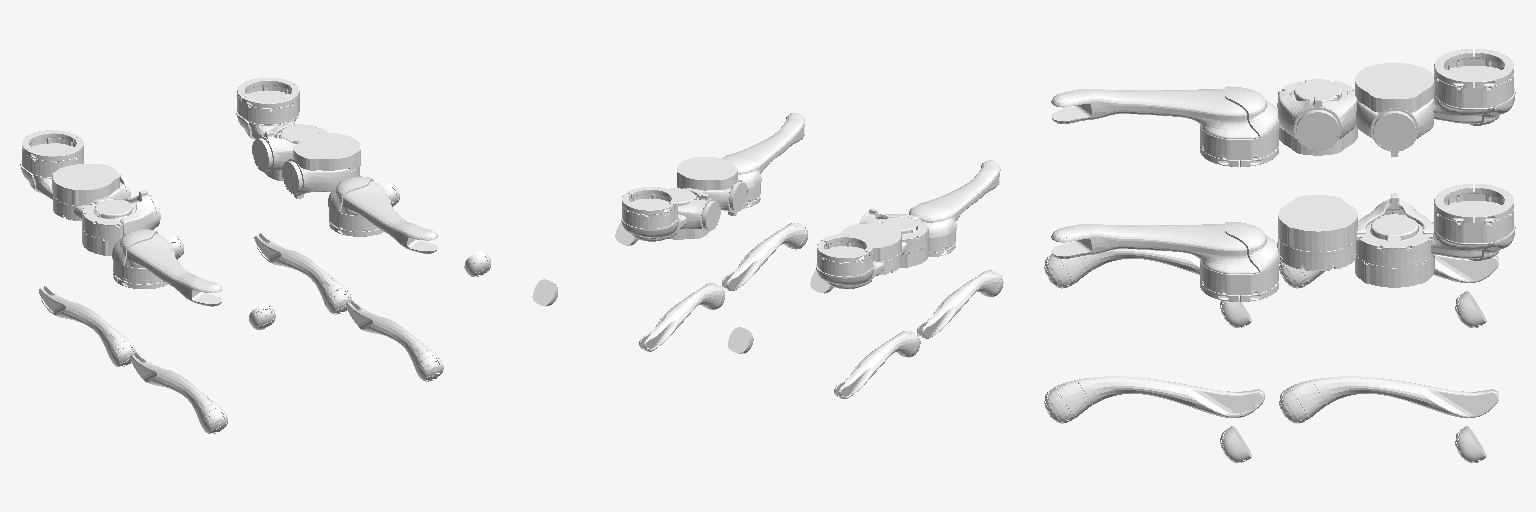
--- What the picture shows (computed from the rendered views, not written in the file) ---
The picture shows the robot from 3 angles, left to right: view 1: azimuth 30°, elevation 25°; view 2: azimuth 150°, elevation 25°; view 3: azimuth 270°, elevation 25°; orthographic projection.
Model go2_description with 29 links and 28 joints (12 revolute, 16 fixed), rooted at base, posed all joints at 0 but 4 set to mid-range because 0 is outside their limits (FL_calf_joint = -1.78, FR_calf_joint = -1.78, RL_calf_joint = -1.78, RR_calf_joint = -1.78).
Links seen in each view (by area): view 1: FR_thigh, RR_thigh, FR_hip, RR_hip, FL_thigh, RL_thigh, RL_hip, RR_calf, FR_calf, FL_calf, RL_calf, FL_hip (+2 smaller); view 2: RR_thigh, RL_thigh, FL_thigh, FR_hip, FR_thigh, FR_calf, FL_calf, RR_calf, RL_calf, FL_hip, RR_hip, RL_hip (+2 smaller); view 3: FR_thigh, RR_thigh, RL_hip, FL_hip, FL_thigh, RL_thigh, FR_hip, RR_hip, FR_calf, FL_calf, RR_calf, RL_calf (+4 smaller).
Boxes of the visible links, <box> form: FR_thigh: <box>328,176,437,253</box>; RR_thigh: <box>112,229,221,306</box>; FR_hip: <box>282,133,360,198</box>; RR_hip: <box>82,190,160,255</box>; FL_thigh: <box>236,78,299,142</box>; RL_thigh: <box>20,130,128,220</box>; RL_hip: <box>52,164,130,220</box>; RR_calf: <box>130,353,227,433</box>; FR_calf: <box>346,300,443,381</box>; FL_calf: <box>254,233,351,314</box>; RL_calf: <box>39,286,136,366</box>; FL_hip: <box>252,124,327,180</box>; RR_thigh: <box>909,160,1000,256</box>; RL_thigh: <box>816,228,916,288</box>; FL_thigh: <box>621,187,695,241</box>; FR_hip: <box>677,157,747,215</box>; FR_thigh: <box>721,113,804,208</box>; FR_calf: <box>722,223,807,290</box>; FL_calf: <box>639,283,724,351</box>; RR_calf: <box>917,270,1003,338</box>; RL_calf: <box>834,331,920,398</box>; FL_hip: <box>668,188,720,239</box>; RR_hip: <box>859,208,928,267</box>; RL_hip: <box>837,224,901,275</box>; FR_thigh: <box>1051,222,1280,301</box>; RR_thigh: <box>1051,86,1279,166</box>; RL_hip: <box>1355,63,1434,156</box>; FL_hip: <box>1355,193,1434,287</box>; FL_thigh: <box>1431,184,1515,260</box>; RL_thigh: <box>1289,49,1515,125</box>; FR_hip: <box>1277,195,1357,270</box>; RR_hip: <box>1277,79,1357,155</box>; FR_calf: <box>1044,376,1264,423</box>; FL_calf: <box>1279,376,1498,423</box>; RR_calf: <box>1044,249,1199,288</box>; RL_calf: <box>1279,255,1498,288</box>.
Size in the robot's own frame: 0.6651 by 0.5701 by 0.2957 metres.
Meshes: 7 distinct files referenced, 16 mesh visuals loaded (6 OBJ); not drawn: 1 (reference not matched to a file when rendering).

robot.urdf — go2_description:
<?xml version="1.0" encoding="utf-8"?>
<!-- This URDF was automatically created by SolidWorks to URDF Exporter! Originally created by
Stephen Brawner ([email redacted]) 
     Commit Version: 1.6.0-4-g7f85cfe  Build Version: 1.6.7995.38578
     For more information, please see http://wiki.ros.org/sw_urdf_exporter -->
<robot
  name="go2_description">
  <link
    name="base">
    <inertial>
      <origin
        xyz="0.021112 0 -0.005366"
        rpy="0 0 0" />
      <mass
        value="6.921" />
      <inertia
        ixx="0.02448"
        ixy="0.00012166"
        ixz="0.0014849"
        iyy="0.098077"
        iyz="-3.12E-05"
        izz="0.107" />
    </inertial>
    <visual>
      <origin
        xyz="0 0 0"
        rpy="0 0 0" />
      <geometry>
        <mesh
          filename="meshes/trunk.obj" />
      </geometry>
      <material
        name="">
        <color
          rgba="1 1 1 1" />
      </material>
    </visual>
    <collision>
      <origin rpy="0 0 0" xyz="0 0 0" />
      <geometry>
        <box size="0.3762 0.0935 0.114" />
      </geometry>
    </collision>
  </link>
  <link
    name="Head_upper">
    <inertial>
      <origin
        xyz="0 0 0"
        rpy="0 0 0" />
      <mass
        value="0.001" />
      <inertia
        ixx="9.6e-06"
        ixy="0"
        ixz="0"
        iyy="9.6e-06"
        iyz="0"
        izz="9.6e-06" />
    </inertial>
    <collision>
      <origin
        xyz="0 0 0"
        rpy="0 0 0" />
      <geometry>
        <cylinder radius="0.05" length="0.09" />
      </geometry>
    </collision>
  </link>
  <joint
    name="Head_upper_joint"
    type="fixed" dont_collapse="true">
    <origin
      xyz="0.285 0 0.01"
      rpy="0 0 0" />
    <parent
      link="base" />
    <child
      link="Head_upper" />
    <axis
      xyz="0 0 0" />
  </joint>
  <link
    name="Head_lower">
    <inertial>
      <origin
        xyz="0 0 0"
        rpy="0 0 0" />
      <mass
        value="0.001" />
      <inertia
        ixx="9.6e-06"
        ixy="0"
        ixz="0"
        iyy="9.6e-06"
        iyz="0"
        izz="9.6e-06" />
    </inertial>
    <collision>
      <origin
        xyz="0 0 0"
        rpy="0 0 0" />
      <geometry>
        <sphere radius="0.047" />
      </geometry>
    </collision>
  </link>
  <joint
    name="Head_lower_joint"
    type="fixed" dont_collapse="true">
    <origin
      xyz="0.008 0 -0.07"
      rpy="0 0 0" />
    <parent
      link="Head_upper" />
    <child
      link="Head_lower" />
    <axis
      xyz="0 0 0" />
  </joint>
  <link
    name="FL_hip">
    <inertial>
      <origin
        xyz="-0.0054 0.00194 -0.000105"
        rpy="0 0 0" />
      <mass
        value="0.678" />
      <inertia
        ixx="0.00048"
        ixy="-3.01E-06"
        ixz="1.11E-06"
        iyy="0.000884"
        iyz="-1.42E-06"
        izz="0.000596" />
    </inertial>
    <visual>
      <origin
        xyz="0 0 0"
        rpy="0 0 0" />
      <geometry>
        <mesh
          filename="meshes/hip.obj" />
      </geometry>
      <material
        name="">
        <color
          rgba="1 1 1 1" />
      </material>
    </visual>
    <collision>
      <origin rpy="1.5707963267948966 0 0" xyz="0 0.08 0" />
      <geometry>
        <cylinder length="0.04" radius="0.046" />
      </geometry>
    </collision>
  </link>
  <joint
    name="FL_hip_joint"
    type="revolute">
    <origin
      xyz="0.1934 0.0465 0"
      rpy="0 0 0" />
    <parent
      link="base" />
    <child
      link="FL_hip" />
    <axis
      xyz="1 0 0" />
    <limit
      lower="-1.0472"
      upper="1.0472"
      effort="23.7"
      velocity="30.1" />
  </joint>
  <link
    name="FL_thigh">
    <inertial>
      <origin
        xyz="-0.00374 -0.0223 -0.0327"
        rpy="0 0 0" />
      <mass
        value="1.152" />
      <inertia
        ixx="0.00584"
        ixy="8.72E-05"
        ixz="-0.000289"
        iyy="0.0058"
        iyz="0.000808"
        izz="0.00103" />
    </inertial>
    <visual>
      <origin
        xyz="0 0 0"
        rpy="0 0 0" />
      <geometry>
        <mesh
          filename="meshes/thigh.obj" />
      </geometry>
      <material
        name="">
        <color
          rgba="1 1 1 1" />
      </material>
    </visual>
    <collision>
      <origin rpy="0 1.5707963267948966 0" xyz="0 0 -0.1065" />
      <geometry>
        <box size="0.213 0.0245 0.034" />
      </geometry>
    </collision>
  </link>
  <joint
    name="FL_thigh_joint"
    type="revolute">
    <origin
      xyz="0 0.0955 0"
      rpy="0 0 0" />
    <parent
      link="FL_hip" />
    <child
      link="FL_thigh" />
    <axis
      xyz="0 1 0" />
    <limit
      lower="-1.5708"
      upper="3.4907"
      effort="23.7"
      velocity="30.1" />
  </joint>
  <link
    name="FL_calf">
    <inertial>
      <origin
        xyz="0.00548 -0.000975 -0.115"
        rpy="0 0 0" />
      <mass
        value="0.154" />
      <inertia
        ixx="0.00108"
        ixy="3.4E-07"
        ixz="1.72E-05"
        iyy="0.0011"
        iyz="8.28E-06"
        izz="3.29E-05" />
    </inertial>
    <visual>
      <origin
        xyz="0 0 0"
        rpy="0 0 0" />
      <geometry>
        <mesh
          filename="meshes/calf.obj" />
      </geometry>
      <material
        name="">
        <color
          rgba="1 1 1 1" />
      </material>
    </visual>
    <collision>
      <origin rpy="0 -0.21 0" xyz="0.008 0 -0.06" />
      <geometry>
        <cylinder length="0.12" radius="0.012" />
      </geometry>
    </collision>
  </link>
  <joint
    name="FL_calf_joint"
    type="revolute">
    <origin
      xyz="0 0 -0.213"
      rpy="0 0 0" />
    <parent
      link="FL_thigh" />
    <child
      link="FL_calf" />
    <axis
      xyz="0 1 0" />
    <limit
      lower="-2.7227"
      upper="-0.83776"
      effort="45.43"
      velocity="15.70" />
  </joint>
  <link
    name="FL_calflower">
    <collision>
      <origin rpy="0 0 0" xyz="0 0 0" />
      <geometry>
        <cylinder length="0.065" radius="0.011" />
      </geometry>
    </collision>
  </link>
  <joint
    name="FL_calflower_joint"
    type="fixed">
    <origin
      xyz="0.020 0 -0.148"
      rpy="0 0.05 0" />
    <parent
      link="FL_calf" />
    <child
      link="FL_calflower" />
    <axis
      xyz="0 0 0" />
  </joint>
  <link
    name="FL_calflower1">
    <collision>
      <origin rpy="0 0 0" xyz="0 0 0" />
      <geometry>
        <cylinder length="0.03" radius="0.0155" />
      </geometry>
    </collision>
  </link>
  <joint
    name="FL_calflower1_joint"
    type="fixed">
    <origin
      xyz="-0.01 0 -0.04"
      rpy="0 0.48 0" />
    <parent
      link="FL_calflower" />
    <child
      link="FL_calflower1" />
    <axis
      xyz="0 0 0" />
  </joint>
  <link
    name="FL_foot">
    <inertial>
      <origin
        xyz="0 0 0"
        rpy="0 0 0" />
      <mass
        value="0.04" />
      <inertia
        ixx="9.6e-06"
        ixy="0"
        ixz="0"
        iyy="9.6e-06"
        iyz="0"
        izz="9.6e-06" />
    </inertial>
    <visual>
      <origin
        xyz="0 0 0"
        rpy="0 0 0" />
      <geometry>
        <mesh
          filename="meshes/foot.obj" />
      </geometry>
      <material
        name="">
        <color
          rgba="1 1 1 1" />
      </material>
    </visual>
    <collision>
      <origin rpy="0 0 0" xyz="-0.002 0 0" />
      <geometry>
        <sphere radius="0.022" />
      </geometry>
    </collision>
  </link>
  <joint
    name="FL_foot_joint"
    type="fixed" dont_collapse="true">
    <origin
      xyz="0 0 -0.213"
      rpy="0 0 0" />
    <parent
      link="FL_calf" />
    <child
      link="FL_foot" />
    <axis
      xyz="0 0 0" />
  </joint>
  <link
    name="FR_hip">
    <inertial>
      <origin
        xyz="-0.0054 -0.00194 -0.000105"
        rpy="0 0 0" />
      <mass
        value="0.678" />
      <inertia
        ixx="0.00048"
        ixy="3.01E-06"
        ixz="1.11E-06"
        iyy="0.000884"
        iyz="1.42E-06"
        izz="0.000596" />
    </inertial>
    <visual>
      <origin
        xyz="0 0 0"
        rpy="3.1415 0 0" />
      <geometry>
        <mesh
          filename="meshes/hip.obj" />
      </geometry>
      <material
        name="">
        <color
          rgba="1 1 1 1" />
      </material>
    </visual>
    <collision>
      <origin rpy="1.5707963267948966 0 0" xyz="0 -0.08 0" />
      <geometry>
        <cylinder length="0.04" radius="0.046" />
      </geometry>
    </collision>
  </link>
  <joint
    name="FR_hip_joint"
    type="revolute">
    <origin
      xyz="0.1934 -0.0465 0"
      rpy="0 0 0" />
    <parent
      link="base" />
    <child
      link="FR_hip" />
    <axis
      xyz="1 0 0" />
    <limit
      lower="-1.0472"
      upper="1.0472"
      effort="23.7"
      velocity="30.1" />
  </joint>
  <link
    name="FR_thigh">
    <inertial>
      <origin
        xyz="-0.00374 0.0223 -0.0327"
        rpy="0 0 0" />
      <mass
        value="1.152" />
      <inertia
        ixx="0.00584"
        ixy="-8.72E-05"
        ixz="-0.000289"
        iyy="0.0058"
        iyz="-0.000808"
        izz="0.00103" />
    </inertial>
    <visual>
      <origin
        xyz="0 0 0"
        rpy="0 0 0" />
      <geometry>
        <mesh
          filename="meshes/thigh_mirror.obj" />
      </geometry>
      <material
        name="">
        <color
          rgba="1 1 1 1" />
      </material>
    </visual>
    <collision>
      <origin rpy="0 1.5707963267948966 0" xyz="0 0 -0.1065" />
      <geometry>
        <box size="0.213 0.0245 0.034" />
      </geometry>
    </collision>
  </link>
  <joint
    name="FR_thigh_joint"
    type="revolute">
    <origin
      xyz="0 -0.0955 0"
      rpy="0 0 0" />
    <parent
      link="FR_hip" />
    <child
      link="FR_thigh" />
    <axis
      xyz="0 1 0" />
    <limit
      lower="-1.5708"
      upper="3.4907"
      effort="23.7"
      velocity="30.1" />
  </joint>
  <link
    name="FR_calf">
    <inertial>
      <origin
        xyz="0.00548 0.000975 -0.115"
        rpy="0 0 0" />
      <mass
        value="0.154" />
      <inertia
        ixx="0.00108"
        ixy="-3.4E-07"
        ixz="1.72E-05"
        iyy="0.0011"
        iyz="-8.28E-06"
        izz="3.29E-05" />
    </inertial>
    <visual>
      <origin
        xyz="0 0 0"
        rpy="0 0 0" />
      <geometry>
        <mesh
          filename="meshes/calf_mirror.obj" />
      </geometry>
      <material
        name="">
        <color
          rgba="1 1 1 1" />
      </material>
    </visual>
    <collision>
      <origin rpy="0 -0.2 0" xyz="0.01 0 -0.06" />
      <geometry>
        <cylinder length="0.12" radius="0.013" />
      </geometry>
    </collision>
  </link>
  <joint
    name="FR_calf_joint"
    type="revolute">
    <origin
      xyz="0 0 -0.213"
      rpy="0 0 0" />
    <parent
      link="FR_thigh" />
    <child
      link="FR_calf" />
    <axis
      xyz="0 1 0" />
    <limit
      lower="-2.7227"
      upper="-0.83776"
      effort="45.43"
      velocity="15.70" />
  </joint>
  <link
    name="FR_calflower">
    <collision>
      <origin rpy="0 0 0" xyz="0 0 0" />
      <geometry>
        <cylinder length="0.065" radius="0.011" />
      </geometry>
    </collision>
  </link>
  <joint
    name="FR_calflower_joint"
    type="fixed">
    <origin
      xyz="0.020 0 -0.148"
      rpy="0 0.05 0" />
    <parent
      link="FR_calf" />
    <child
      link="FR_calflower" />
    <axis
      xyz="0 0 0" />
  </joint>
  <link
    name="FR_calflower1">
    <collision>
      <origin rpy="0 0 0" xyz="0 0 0" />
      <geometry>
        <cylinder length="0.03" radius="0.0155" />
      </geometry>
    </collision>
  </link>
  <joint
    name="FR_calflower1_joint"
    type="fixed">
    <origin
      xyz="-0.01 0 -0.04"
      rpy="0 0.48 0" />
    <parent
      link="FR_calflower" />
    <child
      link="FR_calflower1" />
    <axis
      xyz="0 0 0" />
  </joint>
  <link
    name="FR_foot">
    <inertial>
      <origin
        xyz="0 0 0"
        rpy="0 0 0" />
      <mass
        value="0.04" />
      <inertia
        ixx="9.6e-06"
        ixy="0"
        ixz="0"
        iyy="9.6e-06"
        iyz="0"
        izz="9.6e-06" />
    </inertial>
    <visual>
      <origin
        xyz="0 0 0"
        rpy="0 0 0" />
      <geometry>
        <mesh
          filename="meshes/foot.obj" />
      </geometry>
      <material
        name="">
        <color
          rgba="1 1 1 1" />
      </material>
    </visual>
    <collision>
      <origin rpy="0 0 0" xyz="-0.002 0 0" />
      <geometry>
        <sphere radius="0.022" />
      </geometry>
    </collision>
  </link>
  <joint
    name="FR_foot_joint"
    type="fixed" dont_collapse="true">
    <origin
      xyz="0 0 -0.213"
      rpy="0 0 0" />
    <parent
      link="FR_calf" />
    <child
      link="FR_foot" />
    <axis
      xyz="0 0 0" />
  </joint>
  <link
    name="RL_hip">
    <inertial>
      <origin
        xyz="0.0054 0.00194 -0.000105"
        rpy="0 0 0" />
      <mass
        value="0.678" />
      <inertia
        ixx="0.00048"
        ixy="3.01E-06"
        ixz="-1.11E-06"
        iyy="0.000884"
        iyz="-1.42E-06"
        izz="0.000596" />
    </inertial>
    <visual>
      <origin
        xyz="0 0 0"
        rpy="0 3.1415 0" />
      <geometry>
        <mesh
          filename="meshes/hip.obj" />
      </geometry>
      <material
        name="">
        <color
          rgba="1 1 1 1" />
      </material>
    </visual>
    <collision>
      <origin rpy="1.5707963267948966 0 0" xyz="0 0.08 0" />
      <geometry>
        <cylinder length="0.04" radius="0.046" />
      </geometry>
    </collision>
  </link>
  <joint
    name="RL_hip_joint"
    type="revolute">
    <origin
      xyz="-0.1934 0.0465 0"
      rpy="0 0 0" />
    <parent
      link="base" />
    <child
      link="RL_hip" />
    <axis
      xyz="1 0 0" />
    <limit
      lower="-1.0472"
      upper="1.0472"
      effort="23.7"
      velocity="30.1" />
  </joint>
  <link
    name="RL_thigh">
    <inertial>
      <origin
        xyz="-0.00374 -0.0223 -0.0327"
        rpy="0 0 0" />
      <mass
        value="1.152" />
      <inertia
        ixx="0.00584"
        ixy="8.72E-05"
        ixz="-0.000289"
        iyy="0.0058"
        iyz="0.000808"
        izz="0.00103" />
    </inertial>
    <visual>
      <origin
        xyz="0 0 0"
        rpy="0 0 0" />
      <geometry>
        <mesh
          filename="meshes/thigh.obj" />
      </geometry>
      <material
        name="">
        <color
          rgba="1 1 1 1" />
      </material>
    </visual>
    <collision>
      <origin rpy="0 1.5707963267948966 0" xyz="0 0 -0.1065" />
      <geometry>
        <box size="0.213 0.0245 0.034" />
      </geometry>
    </collision>
  </link>
  <joint
    name="RL_thigh_joint"
    type="revolute">
    <origin
      xyz="0 0.0955 0"
      rpy="0 0 0" />
    <parent
      link="RL_hip" />
    <child
      link="RL_thigh" />
    <axis
      xyz="0 1 0" />
    <limit
      lower="-0.5236"
      upper="4.5379"
      effort="23.7"
      velocity="30.1" />
  </joint>
  <link
    name="RL_calf">
    <inertial>
      <origin
        xyz="0.00548 -0.000975 -0.115"
        rpy="0 0 0" />
      <mass
        value="0.154" />
      <inertia
        ixx="0.00108"
        ixy="3.4E-07"
        ixz="1.72E-05"
        iyy="0.0011"
        iyz="8.28E-06"
        izz="3.29E-05" />
    </inertial>
    <visual>
      <origin
        xyz="0 0 0"
        rpy="0 0 0" />
      <geometry>
        <mesh
          filename="meshes/calf.obj" />
      </geometry>
      <material
        name="">
        <color
          rgba="1 1 1 1" />
      </material>
    </visual>
    <collision>
      <origin rpy="0 -0.2 0" xyz="0.01 0 -0.06" />
      <geometry>
        <cylinder length="0.12" radius="0.013" />
      </geometry>
    </collision>
  </link>
  <joint
    name="RL_calf_joint"
    type="revolute">
    <origin
      xyz="0 0 -0.213"
      rpy="0 0 0" />
    <parent
      link="RL_thigh" />
    <child
      link="RL_calf" />
    <axis
      xyz="0 1 0" />
    <limit
      lower="-2.7227"
      upper="-0.83776"
      effort="45.43"
      velocity="15.70" />
  </joint>
  <link
    name="RL_calflower">
    <collision>
      <origin rpy="0 0 0" xyz="0 0 0" />
      <geometry>
        <cylinder length="0.065" radius="0.011" />
      </geometry>
    </collision>
  </link>
  <joint
    name="RL_calflower_joint"
    type="fixed">
    <origin
      xyz="0.020 0 -0.148"
      rpy="0 0.05 0" />
    <parent
      link="RL_calf" />
    <child
      link="RL_calflower" />
    <axis
      xyz="0 0 0" />
  </joint>
  <link
    name="RL_calflower1">
    <collision>
      <origin rpy="0 0 0" xyz="0 0 0" />
      <geometry>
        <cylinder length="0.03" radius="0.0155" />
      </geometry>
    </collision>
  </link>
  <joint
    name="RL_calflower1_joint"
    type="fixed">
    <origin
      xyz="-0.01 0 -0.04"
      rpy="0 0.48 0" />
    <parent
      link="RL_calflower" />
    <child
      link="RL_calflower1" />
    <axis
      xyz="0 0 0" />
  </joint>
  <link
    name="RL_foot">
    <inertial>
      <origin
        xyz="0 0 0"
        rpy="0 0 0" />
      <mass
        value="0.04" />
      <inertia
        ixx="9.6e-06"
        ixy="0"
        ixz="0"
        iyy="9.6e-06"
        iyz="0"
        izz="9.6e-06" />
    </inertial>
    <visual>
      <origin
        xyz="0 0 0"
        rpy="0 0 0" />
      <geometry>
        <mesh
          filename="meshes/foot.obj" />
      </geometry>
      <material
        name="">
        <color
          rgba="1 1 1 1" />
      </material>
    </visual>
    <collision>
      <origin rpy="0 0 0" xyz="-0.002 0 0" />
      <geometry>
        <sphere radius="0.022" />
      </geometry>
    </collision>
  </link>
  <joint
    name="RL_foot_joint"
    type="fixed" dont_collapse="true">
    <origin
      xyz="0 0 -0.213"
      rpy="0 0 0" />
    <parent
      link="RL_calf" />
    <child
      link="RL_foot" />
    <axis
      xyz="0 0 0" />
  </joint>
  <link
    name="RR_hip">
    <inertial>
      <origin
        xyz="0.0054 -0.00194 -0.000105"
        rpy="0 0 0" />
      <mass
        value="0.678" />
      <inertia
        ixx="0.00048"
        ixy="-3.01E-06"
        ixz="-1.11E-06"
        iyy="0.000884"
        iyz="1.42E-06"
        izz="0.000596" />
    </inertial>
    <visual>
      <origin
        xyz="0 0 0"
        rpy="3.1415 3.1415 0" />
      <geometry>
        <mesh
          filename="meshes/hip.obj" />
      </geometry>
      <material
        name="">
        <color
          rgba="1 1 1 1" />
      </material>
    </visual>
    <collision>
      <origin rpy="1.5707963267948966 0 0" xyz="0 -0.08 0" />
      <geometry>
        <cylinder length="0.04" radius="0.046" />
      </geometry>
    </collision>
  </link>
  <joint
    name="RR_hip_joint"
    type="revolute">
    <origin
      xyz="-0.1934 -0.0465 0"
      rpy="0 0 0" />
    <parent
      link="base" />
    <child
      link="RR_hip" />
    <axis
      xyz="1 0 0" />
    <limit
      lower="-1.0472"
      upper="1.0472"
      effort="23.7"
      velocity="30.1" />
  </joint>
  <link
    name="RR_thigh">
    <inertial>
      <origin
        xyz="-0.00374 0.0223 -0.0327"
        rpy="0 0 0" />
      <mass
        value="1.152" />
      <inertia
        ixx="0.00584"
        ixy="-8.72E-05"
        ixz="-0.000289"
        iyy="0.0058"
        iyz="-0.000808"
        izz="0.00103" />
    </inertial>
    <visual>
      <origin
        xyz="0 0 0"
        rpy="0 0 0" />
      <geometry>
        <mesh
          filename="meshes/thigh_mirror.obj" />
      </geometry>
      <material
        name="">
        <color
          rgba="1 1 1 1" />
      </material>
    </visual>
    <collision>
      <origin rpy="0 1.5707963267948966 0" xyz="0 0 -0.1065" />
      <geometry>
        <box size="0.213 0.0245 0.034" />
      </geometry>
    </collision>
  </link>
  <joint
    name="RR_thigh_joint"
    type="revolute">
    <origin
      xyz="0 -0.0955 0"
      rpy="0 0 0" />
    <parent
      link="RR_hip" />
    <child
      link="RR_thigh" />
    <axis
      xyz="0 1 0" />
    <limit
      lower="-0.5236"
      upper="4.5379"
      effort="23.7"
      velocity="30.1" />
  </joint>
  <link
    name="RR_calf">
    <inertial>
      <origin
        xyz="0.00548 0.000975 -0.115"
        rpy="0 0 0" />
      <mass
        value="0.154" />
      <inertia
        ixx="0.00108"
        ixy="-3.4E-07"
        ixz="1.72E-05"
        iyy="0.0011"
        iyz="-8.28E-06"
        izz="3.29E-05" />
    </inertial>
    <visual>
      <origin
        xyz="0 0 0"
        rpy="0 0 0" />
      <geometry>
        <mesh
          filename="meshes/calf_mirror.obj" />
      </geometry>
      <material
        name="">
        <color
          rgba="1 1 1 1" />
      </material>
    </visual>
    <collision>
      <origin rpy="0 -0.2 0" xyz="0.01 0 -0.06" />
      <geometry>
        <cylinder length="0.12" radius="0.013" />
      </geometry>
    </collision>
  </link>
  <joint
    name="RR_calf_joint"
    type="revolute">
    <origin
      xyz="0 0 -0.213"
      rpy="0 0 0" />
    <parent
      link="RR_thigh" />
    <child
      link="RR_calf" />
    <axis
      xyz="0 1 0" />
    <limit
      lower="-2.7227"
      upper="-0.83776"
      effort="45.43"
      velocity="15.70" />
  </joint>
  <link
    name="RR_calflower">
    <collision>
      <origin rpy="0 0 0" xyz="0 0 0" />
      <geometry>
        <cylinder length="0.065" radius="0.011" />
      </geometry>
    </collision>
  </link>
  <joint
    name="RR_calflower_joint"
    type="fixed">
    <origin
      xyz="0.020 0 -0.148"
      rpy="0 0.05 0" />
    <parent
      link="RR_calf" />
    <child
      link="RR_calflower" />
    <axis
      xyz="0 0 0" />
  </joint>
  <link
    name="RR_calflower1">
    <collision>
      <origin rpy="0 0 0" xyz="0 0 0" />
      <geometry>
        <cylinder length="0.03" radius="0.0155" />
      </geometry>
    </collision>
  </link>
  <joint
    name="RR_calflower1_joint"
    type="fixed">
    <origin
      xyz="-0.01 0 -0.04"
      rpy="0 0.48 0" />
    <parent
      link="RR_calflower" />
    <child
      link="RR_calflower1" />
    <axis
      xyz="0 0 0" />
  </joint>
  <link
    name="RR_foot">
    <inertial>
      <origin
        xyz="0 0 0"
        rpy="0 0 0" />
      <mass
        value="0.04" />
      <inertia
        ixx="9.6e-06"
        ixy="0"
        ixz="0"
        iyy="9.6e-06"
        iyz="0"
        izz="9.6e-06" />
    </inertial>
    <visual>
      <origin
        xyz="0 0 0"
        rpy="0 0 0" />
      <geometry>
        <mesh
          filename="meshes/foot.obj" />
      </geometry>
      <material
        name="">
        <color
          rgba="1 1 1 1" />
      </material>
    </visual>
    <collision>
      <origin rpy="0 0 0" xyz="-0.002 0 0" />
      <geometry>
        <sphere radius="0.022" />
      </geometry>
    </collision>
  </link>
  <joint
    name="RR_foot_joint"
    type="fixed" dont_collapse="true">
    <origin
      xyz="0 0 -0.213"
      rpy="0 0 0" />
    <parent
      link="RR_calf" />
    <child
      link="RR_foot" />
    <axis
      xyz="0 0 0" />
  </joint>
  <link
    name="imu">
    <inertial>
      <origin
        xyz="0 0 0"
        rpy="0 0 0" />
      <mass
        value="0" />
      <inertia
        ixx="0"
        ixy="0"
        ixz="0"
        iyy="0"
        iyz="0"
        izz="0" />
    </inertial>
  </link>
  <joint
    name="imu_joint"
    type="fixed">
    <origin
      xyz="-0.02557 0 0.04232"
      rpy="0 0 0" />
    <parent
      link="base" />
    <child
      link="imu" />
    <axis
      xyz="0 0 0" />
  </joint>
  <link
    name="radar">
    <inertial>
      <origin
        xyz="0 0 0"
        rpy="0 0 0" />
      <mass
        value="0" />
      <inertia
        ixx="0"
        ixy="0"
        ixz="0"
        iyy="0"
        iyz="0"
        izz="0" />
    </inertial>
  </link>
  <joint
    name="radar_joint"
    type="fixed">
    <origin
      xyz="0.28945 0 -0.046825"
      rpy="0 2.8782 0" />
    <parent
      link="base" />
    <child
      link="radar" />
    <axis
      xyz="0 0 0" />
  </joint>
</robot>
